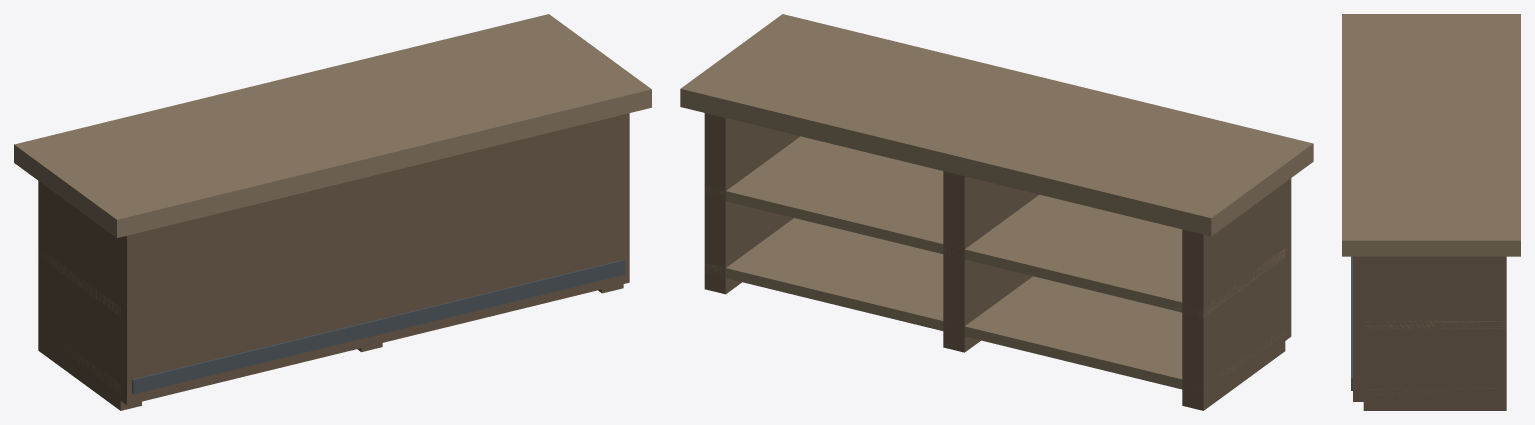
Rendered from shop_counter.glb.
The picture shows the model from 3 angles, left to right: view 1: azimuth 30°, elevation 25°; view 2: azimuth 150°, elevation 25°; view 3: azimuth 270°, elevation 25°; orthographic projection. The views are drawn at different scales.
Visible parts, largest first — view 1: shop_counter; view 2: shop_counter; view 3: shop_counter.
Part boxes in pixels (x1,y1,x2,y2): shop_counter: (14,14,651,410); shop_counter: (680,14,1313,410); shop_counter: (1342,14,1520,410).
Size of the model in its own units: 2.88 by 1.05 by 0.96.
